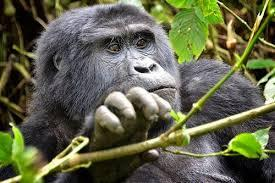goriile_montagne: (29, 0, 260, 183)
